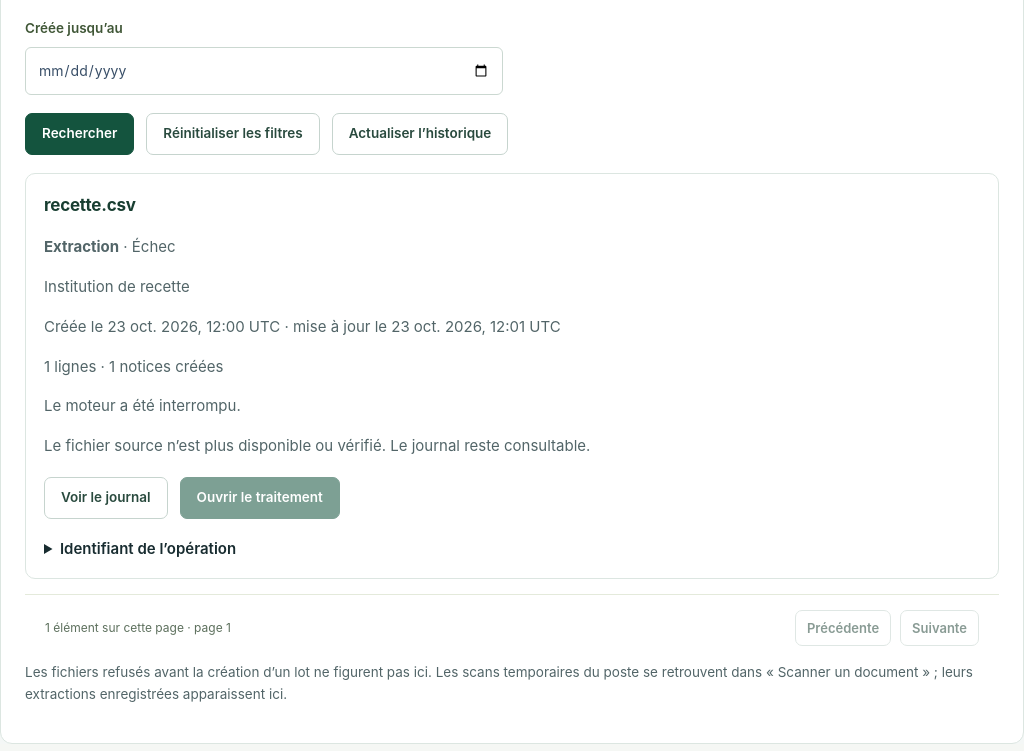
Test case: garde le journal accessible pour une source indisponible et empêche la reprise
(page scrolled)
Expected: the heading "recette.csv" is shown, [44,195,136,215]
Expected: the button "Ouvrir le traitement" is disabled, [180,477,340,519]
Click the button "Voir le journal". click: coordinates (106, 498)
box: [44,477,168,519]
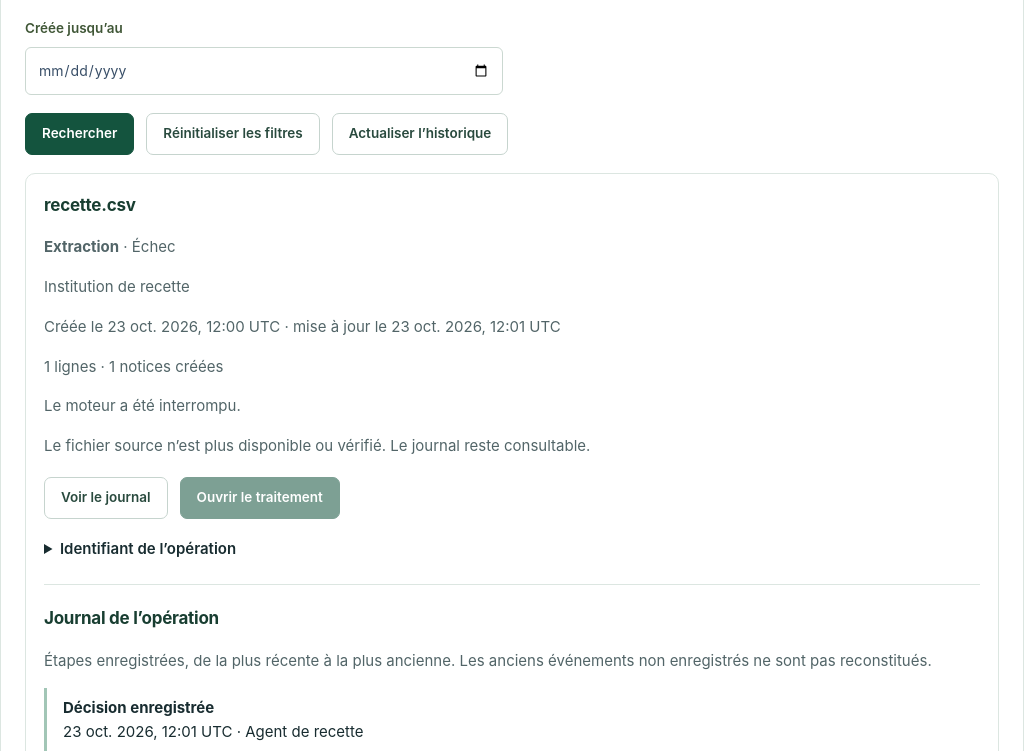
Result: the text "Décision enregistrée" is shown at [63,698,214,717]
